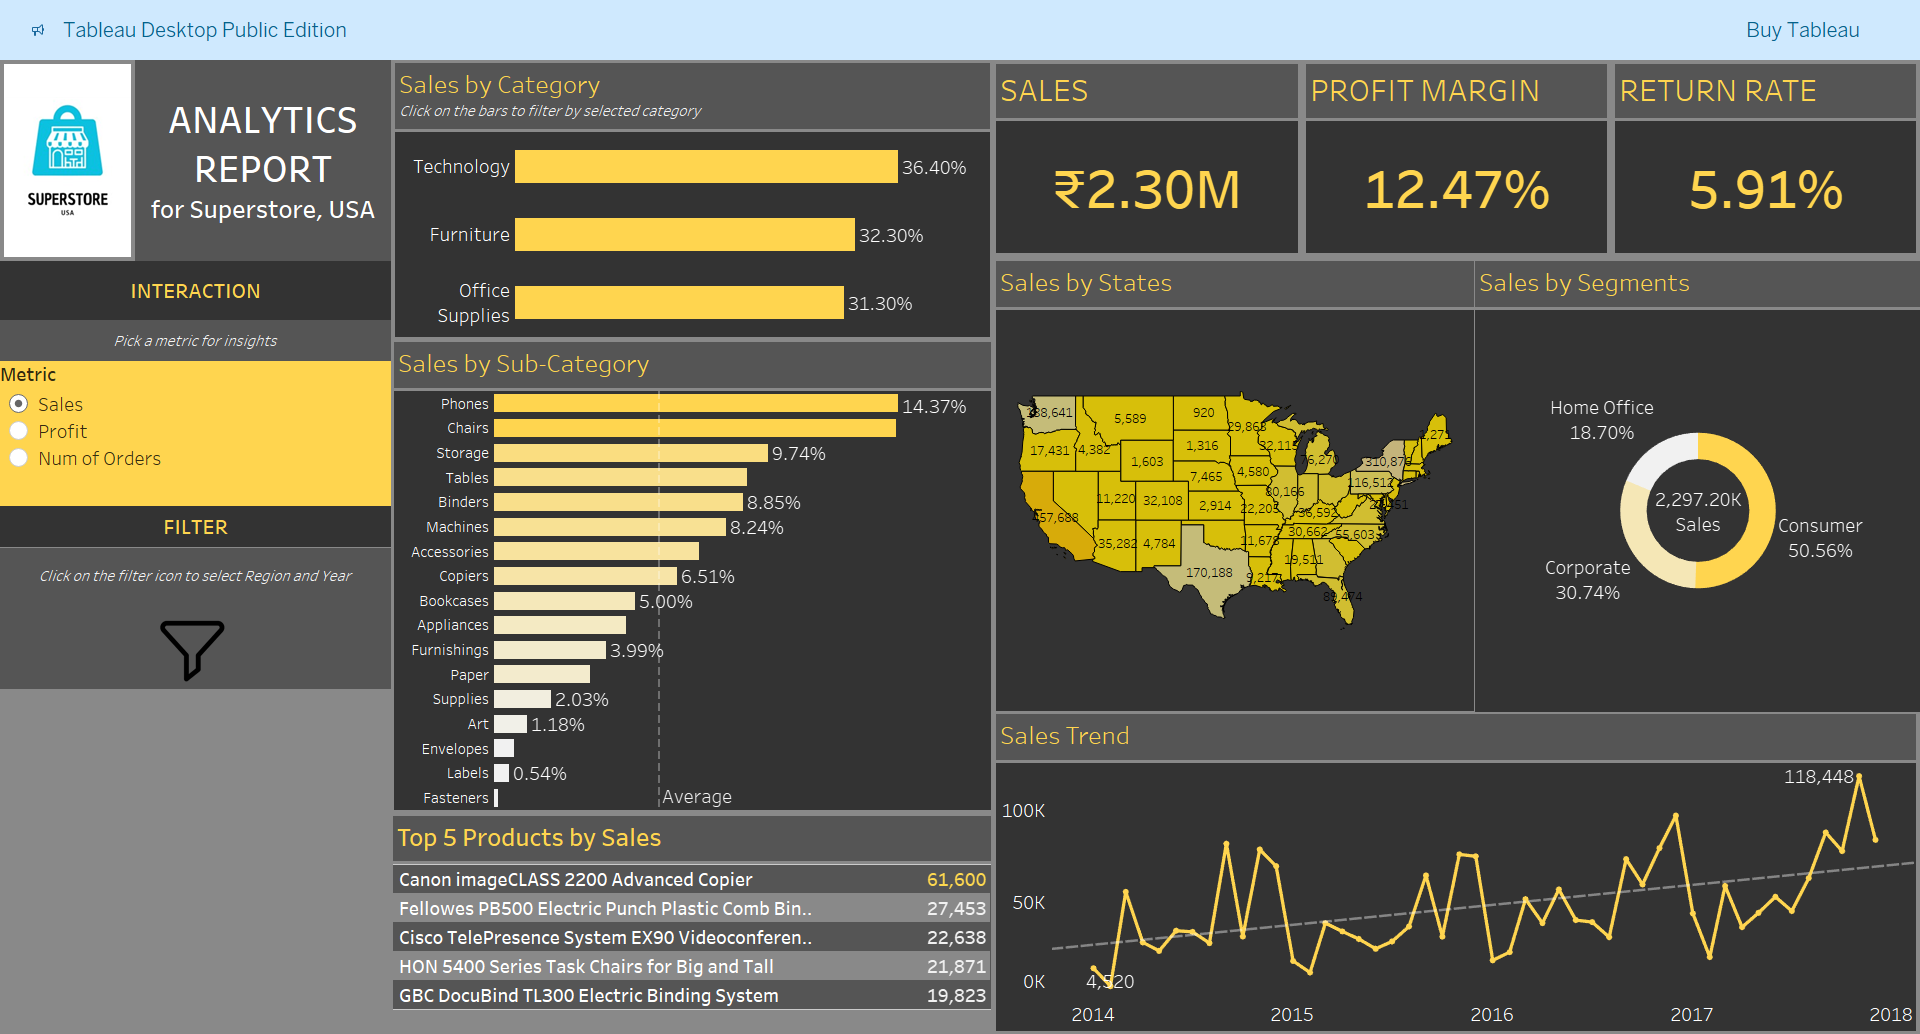

What the dashboard file says about the page in this screenshot:
{"tool":"tableau","page":{"name":"Dashboard","canvas":[1000,1000],"units":"permille","ordinal":0},"visuals":[{"type":"image","param":"Image/Superstore.jpg","box":[0,0,70.5,205.8]},{"type":"text","box":[70.5,0,133.4,205.8]},{"type":"worksheet","title":"Sales","mark":"Automatic","box":[516.8,0,161.5,201.8]},{"type":"worksheet","title":"Profit margin","mark":"Automatic","box":[678.3,0,160.8,201.8]},{"type":"worksheet","title":"Return rate","mark":"Automatic","box":[839.1,0,160.8,201.8]},{"type":"worksheet","title":"Category","mark":"Automatic","rows":["Category"],"cols":["Calculation_487796158567698432"],"box":[205.7,2.6,309.9,343]},{"type":"text","box":[0,205.8,203.9,60.7]},{"type":"worksheet","title":"Map","mark":"Multipolygon","box":[518.7,205.8,248.8,461.7]},{"type":"worksheet","title":"Segment","mark":"Pie","rows":["Calculation_487796158591057924","Calculation_487796158591057924"],"box":[768.1,205.8,232.5,461.7]},{"type":"text","box":[0,266.5,203.9,42.2]},{"type":"worksheet","title":"Sub-Cat","mark":"Automatic","rows":["Sub-Category"],"cols":["Calculation_487796158567698432"],"box":[205.1,288.9,311.1,480.2]},{"type":"parameter","param":"[Parameters].[Parameter 2]","box":[0,308.7,203.9,149.1]},{"type":"text","box":[0,457.8,203.9,42.2]},{"type":"text","box":[0,500,203.9,56.7]},{"type":"dashboard-object","box":[79.8,564.6,41.1,77.8]},{"type":"filter","title":"Category","param":"[federated.0g2iai41w3f6nd17jtxeg0jlbr61].[none:Region:nk]","box":[0,645.1,203.9,285]},{"type":"worksheet","title":"Trend","mark":"Line","rows":["Calculation_487796158567698432"],"cols":["Order Date"],"box":[516.8,666.2,483.2,333.8]},{"type":"worksheet","title":"Products","mark":"Text","rows":["Product Name"],"box":[204.5,775.7,330.4,203.2]},{"type":"filter","title":"Category","param":"[federated.0g2iai41w3f6nd17jtxeg0jlbr61].[yr:Order Date:ok]","box":[0,930.1,203.9,69.9]}]}

Visuals, with their boxes on the dashboard's canvas, which has no fixed pixel size, in thousandths of its width and height (x1, y1, x2, y2). These are canvas units, not pixel positions in the 1920x1034 screenshot, which may show the page scaled, cropped or inside an application window:
image: <region>0, 0, 70, 206</region>
text: <region>70, 0, 204, 206</region>
"Sales" worksheet: <region>517, 0, 678, 202</region>
"Profit margin" worksheet: <region>678, 0, 839, 202</region>
"Return rate" worksheet: <region>839, 0, 1000, 202</region>
"Category" worksheet: <region>206, 3, 516, 346</region>
text: <region>0, 206, 204, 266</region>
"Map" worksheet (Multipolygon marks): <region>519, 206, 768, 668</region>
"Segment" worksheet (Pie marks): <region>768, 206, 1001, 668</region>
text: <region>0, 266, 204, 309</region>
"Sub-Cat" worksheet: <region>205, 289, 516, 769</region>
parameter: <region>0, 309, 204, 458</region>
text: <region>0, 458, 204, 500</region>
text: <region>0, 500, 204, 557</region>
dashboard-object: <region>80, 565, 121, 642</region>
"Category" filter: <region>0, 645, 204, 930</region>
"Trend" worksheet (Line marks): <region>517, 666, 1000, 1000</region>
"Products" worksheet (Text marks): <region>204, 776, 535, 979</region>
"Category" filter: <region>0, 930, 204, 1000</region>
